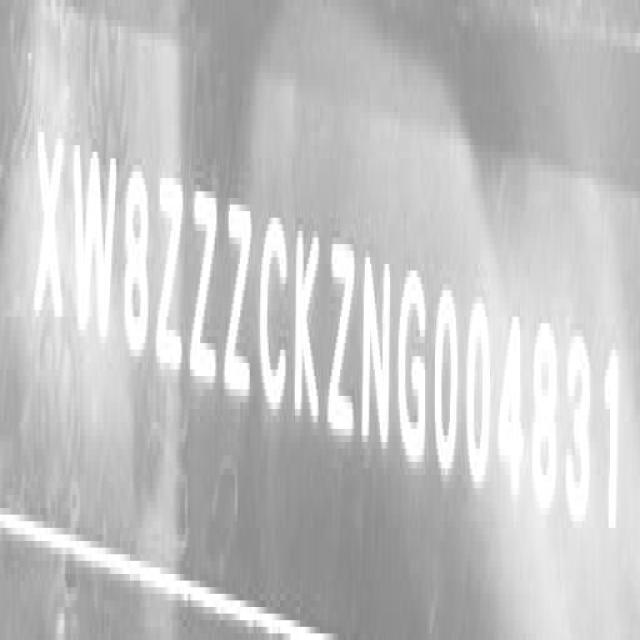0: (464, 296, 491, 494), (434, 281, 458, 491)
1: (602, 345, 620, 535)
3: (560, 330, 592, 523)
4: (498, 288, 526, 518)
8: (122, 159, 152, 374), (531, 311, 559, 514)
C: (257, 213, 288, 425)
G: (396, 256, 428, 494)
K: (292, 217, 321, 435)
N: (359, 247, 393, 445)
W: (70, 132, 119, 354)
X: (33, 117, 63, 325)
Z: (186, 176, 220, 389), (325, 225, 356, 447), (154, 166, 187, 372), (222, 190, 251, 406)
